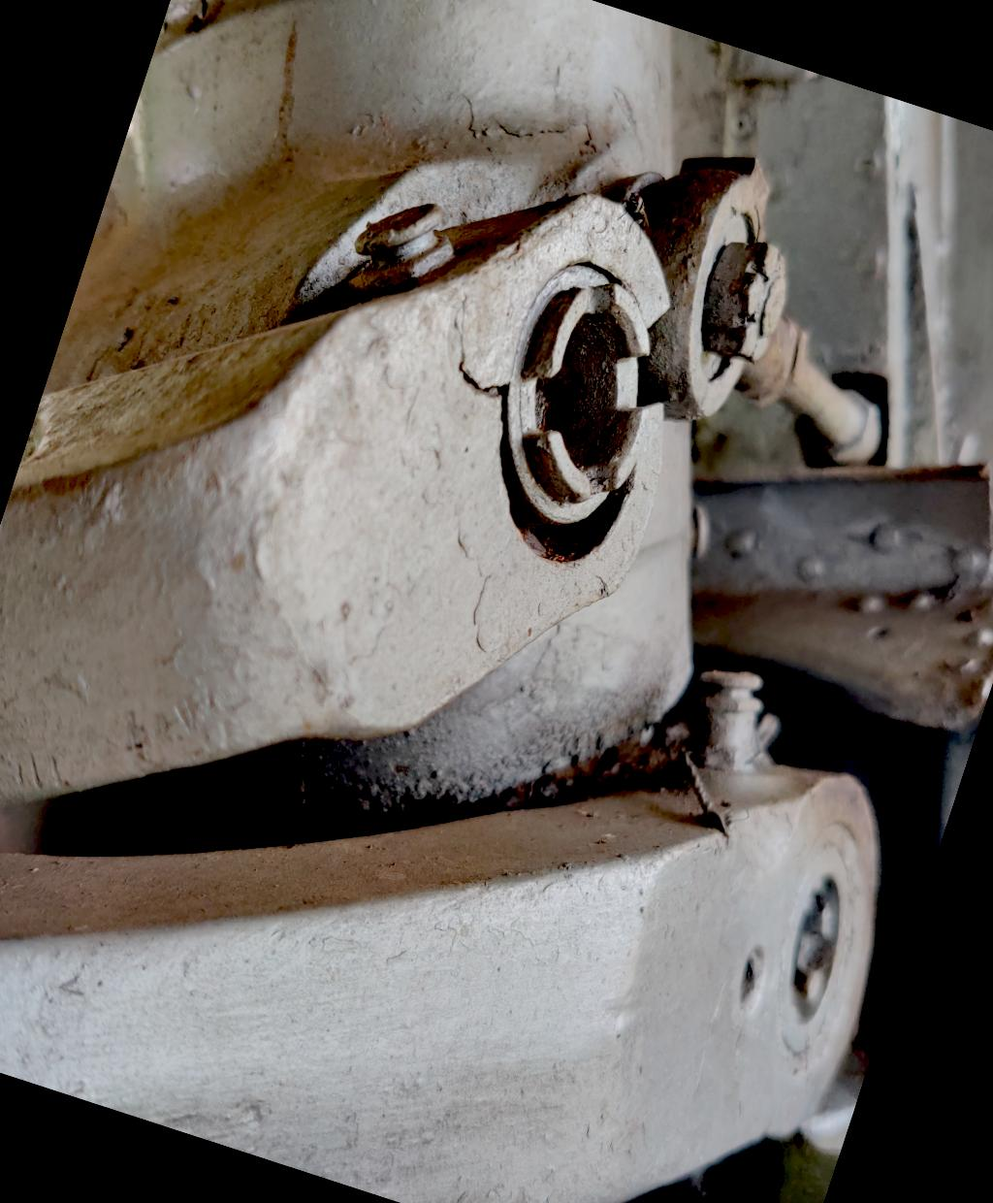crack: (431, 322, 530, 422)
